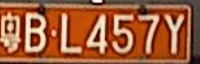B: (25, 13, 46, 52)
